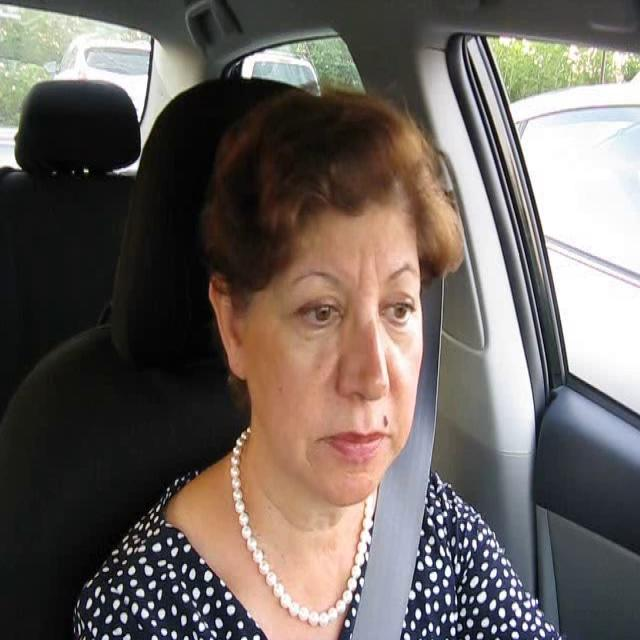close: (317, 425, 392, 465)
